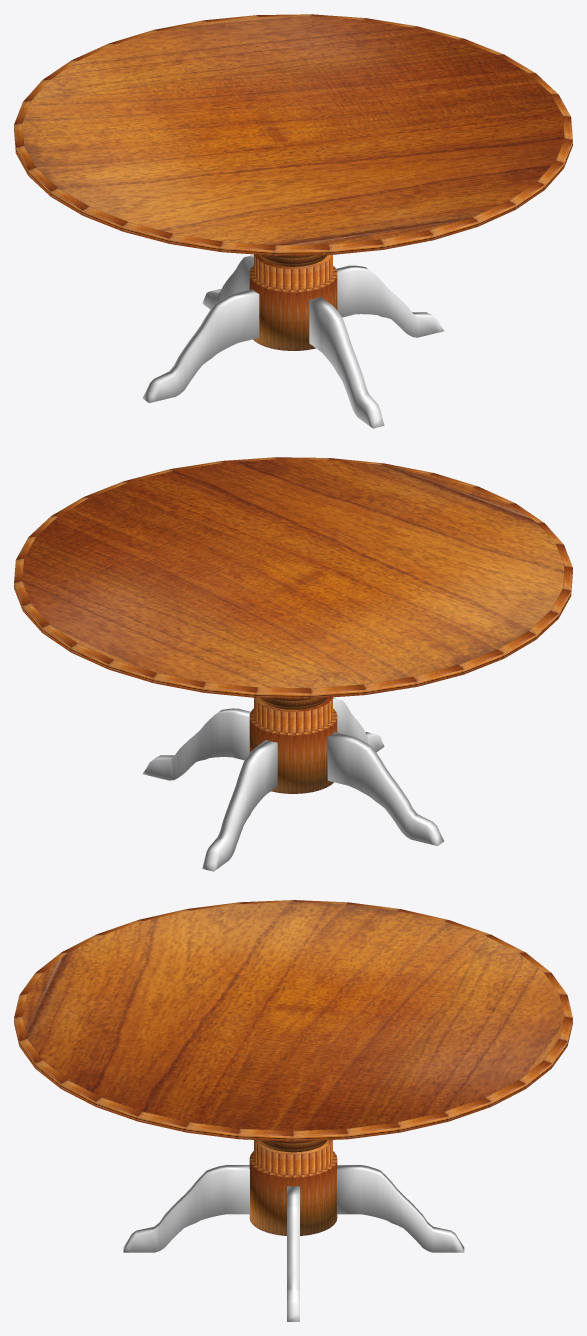
The model's file is small_wooden_table.fbx.
3 renders of one model, top to bottom at view 1: azimuth 30°, elevation 25°; view 2: azimuth 150°, elevation 25°; view 3: azimuth 270°, elevation 25°, orthographic.
Visible parts, largest first — view 1: TableTop, LegMount, Leg2, Leg4, Leg1, Leg3; view 2: TableTop, LegMount, Leg2, Leg3, Leg1, Leg4; view 3: TableTop, LegMount, Leg3, Leg4, Leg1.
Part boxes in pixels (bbox=[...]): TableTop: bbox=[14, 14, 572, 255]; LegMount: bbox=[249, 254, 337, 350]; Leg2: bbox=[142, 289, 259, 403]; Leg4: bbox=[309, 297, 384, 428]; Leg1: bbox=[336, 265, 444, 337]; Leg3: bbox=[202, 255, 253, 309]; TableTop: bbox=[14, 457, 572, 698]; LegMount: bbox=[249, 697, 337, 793]; Leg2: bbox=[327, 732, 444, 845]; Leg3: bbox=[202, 740, 277, 871]; Leg1: bbox=[142, 708, 250, 780]; Leg4: bbox=[333, 698, 384, 752]; TableTop: bbox=[14, 900, 572, 1141]; LegMount: bbox=[249, 1140, 337, 1235]; Leg3: bbox=[337, 1165, 464, 1252]; Leg4: bbox=[123, 1165, 249, 1252]; Leg1: bbox=[287, 1186, 299, 1321].
Bounding box in the file's own units: 5.34 × 2.46 × 5.34.
Materials: 2 (1 with a texture image).
